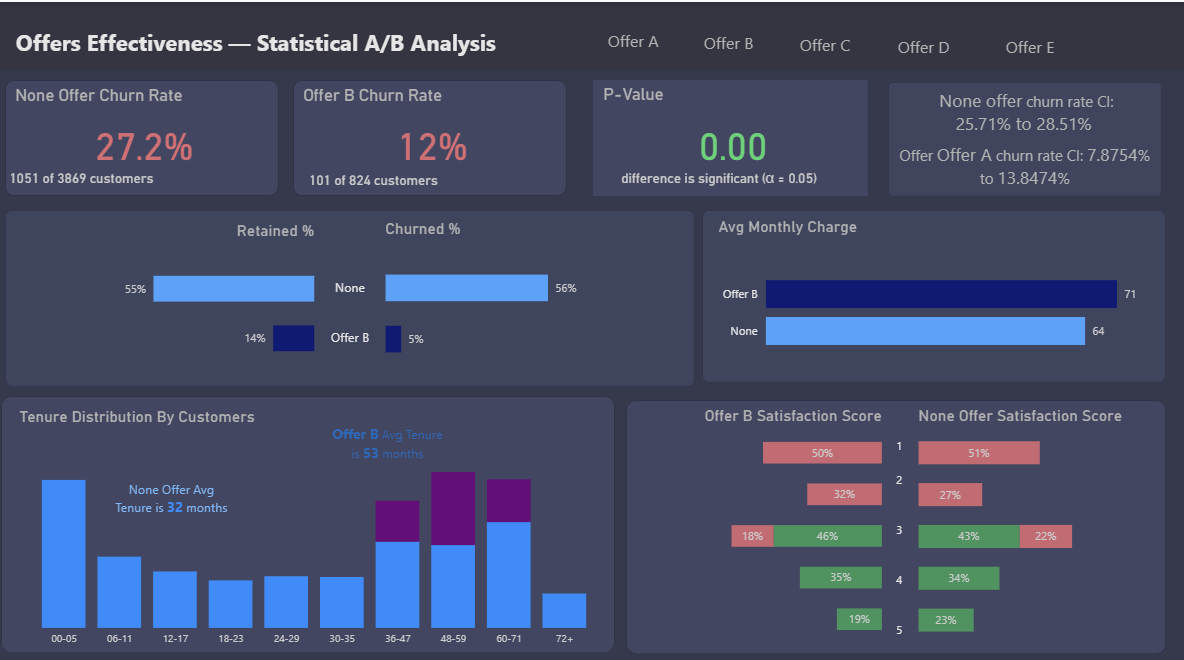

The dashboard page shown, as its layout file describes it:
{"tool":"powerbi","page":{"name":"Offer A/B test","canvas":[1280,720],"ordinal":4},"visuals":[{"type":"shape","box":[0,0,1280,72.9],"z":0,"group":"g3"},{"type":"group","id":"g1","title":"Group 8","box":[9.9,83,295.3,125],"z":0},{"type":"card","title":"None Offer Churn Rate","fields":{"Values":["_calculation.None Offer Churn Rate"]},"box":[10.2,83,295,125],"z":0,"group":"g1"},{"type":"card","title":"Offer E Churn Rate","fields":{"Values":["_calculation.Churn Rate"]},"box":[322.5,85,295,125],"z":0,"group":"g8"},{"type":"card","title":"P-Value","fields":{"Values":["Sum(offers A/B results.p-value)"]},"box":[645.1,85,295,125],"z":0,"group":"g7"},{"type":"shape","box":[962.4,87.3,295,123.5],"z":0,"group":"g10"},{"type":"group","id":"g2","title":"Churn vs Retained","box":[7,225.9,746.4,191],"z":0,"group":"g9"},{"type":"shape","box":[11,225.9,742.1,190.5],"z":0,"group":"g2"},{"type":"shape","box":[760,226.5,499.5,186],"z":0,"group":"g4"},{"type":"shape","box":[7.4,426.4,660.4,277.3],"z":0,"group":"g5"},{"type":"shape","box":[678.4,429.5,582,274.2],"z":0,"group":"g6"},{"type":"group","id":"g3","title":"Header","box":[0,0,1280,72.9],"z":1000},{"type":"actionButton","box":[1083.1,28.4,72,39.8],"z":1000,"group":"g3"},{"type":"enlightenDataStoryDDFB78A6143E42CFAFBC50CCF18D978D","fields":{"measure":["Min(offers A/B results.offer)","Sum(offers A/B results.low bound CI)","Sum(offers A/B results.high bound CI)"]},"box":[962.4,148,294.5,61.1],"z":1000,"group":"g10"},{"type":"card","fields":{"Values":["_calculation.Churn Subtitle"]},"box":[9.9,173.4,168.5,33],"z":1000,"group":"g1"},{"type":"card","fields":{"Values":["_calculation.P Value Result"]},"box":[645.6,175.6,269.2,34.7],"z":1000,"group":"g7"},{"type":"card","fields":{"Values":["_calculation.Churn Subtitle"]},"box":[327.7,178,168.5,33],"z":1000,"group":"g8"},{"type":"group","id":"g4","title":"Offer","box":[758,223.8,502.2,190],"z":1000,"group":"g9"},{"type":"clusteredBarChart","title":"Avg Monthly Charge","fields":{"Y":["_calculation.Monthly Charge"],"Category":["telco telco_customer_churn_services.Offer"]},"box":[758,223.8,502.2,190],"z":1000,"group":"g4"},{"type":"barChart","title":"Retained %","fields":{"Category":["telco telco_customer_churn_services.Offer"],"Y":["_calculation.Retained %"]},"box":[7,229,357.7,186],"z":1000,"group":"g2"},{"type":"columnChart","title":"Tenure Distribution By Customers","fields":{"Category":["telco telco_customer_churn_services.Tenure in Months Group"],"Y":["CountNonNull(telco telco_customer_churn.CustomerID)"],"Series":["telco telco_customer_churn_services.Offer"]},"box":[7.4,427.9,660.4,275.7],"z":1000,"group":"g5"},{"type":"textbox","box":[931.6,462.7,84.5,233],"z":1000,"group":"g6"},{"type":"actionButton","box":[967.6,28.4,72,39.8],"z":2000,"group":"g3"},{"type":"textbox","box":[961.6,88.8,302.7,74.7],"z":2000,"group":"g10"},{"type":"barChart","title":"Churned %","fields":{"Category":["telco telco_customer_churn_services.Offer"],"Y":["_calculation.Churn %"]},"box":[402.2,226.4,351.2,190.5],"z":2000,"group":"g2"},{"type":"group","id":"g5","title":"Tenure Part","box":[7.4,426.4,660.4,277.3],"z":2000,"group":"g9"},{"type":"barChart","title":"Offer E Satisfaction Score ","fields":{"Category":["telco telco_customer_churn_status.Satisfaction Score"],"Series":["telco vw_customer_status.Churn Label"],"Y":["_calculation.Satisfaction %"]},"box":[681.5,426.9,283.5,276.3],"z":2000,"group":"g6"},{"type":"enlightenDataStoryDDFB78A6143E42CFAFBC50CCF18D978D","fields":{"measure":["Min(offers A/B results.offer)","_calculation.Avg Tenure"]},"box":[133.3,494.8,137.9,69],"z":2000,"group":"g5"},{"type":"actionButton","box":[861.5,26.5,72,39.8],"z":3000,"group":"g3"},{"type":"textbox","box":[327.3,295.2,110.1,93.7],"z":3000,"group":"g2"},{"type":"group","id":"g6","title":"Staisfaction score","box":[678.4,426.9,582,278.4],"z":3000,"group":"g9"},{"type":"barChart","title":"None Offer Satisfaction Score","fields":{"Category":["telco telco_customer_churn_status.Satisfaction Score"],"Series":["telco vw_customer_status.Churn Label"],"Y":["_calculation.None Offer Satisfaction %"]},"box":[974.3,427.9,285.6,277.3],"z":3000,"group":"g6"},{"type":"enlightenDataStoryDDFB78A6143E42CFAFBC50CCF18D978D","fields":{"measure":["_calculation.Avg None Offer Tuner"]},"box":[379,518.5,137.9,66.8],"z":3000,"group":"g5"},{"type":"actionButton","box":[759.3,22.7,72,39.8],"z":4000,"group":"g3"},{"type":"group","id":"g7","title":"Group 5","box":[645.1,85,295,125.3],"z":4000,"group":"g9"},{"type":"actionButton","box":[655.1,20.8,72,39.8],"z":5000,"group":"g3"},{"type":"group","id":"g8","title":"Group 7","box":[322.5,85,295,126],"z":5000,"group":"g9"},{"type":"textbox","box":[10.2,21.6,575.1,51.2],"z":6000,"group":"g3"},{"type":"group","id":"g9","title":"offer E","box":[7,85,1257.3,620.2],"z":6000},{"type":"group","id":"g10","title":"Group 1","box":[961.6,87.3,302.7,123.5],"z":6000,"group":"g9"}]}

Visuals, with their boxes in screenshot pixels (x1, y1, x2, y2), scaled from the page's 1280x720 canvas onto the 1184x660 screenshot:
shape: pyautogui.locateOnScreen(0, 0, 1183, 67)
"Group 8" group: pyautogui.locateOnScreen(9, 76, 282, 191)
"None Offer Churn Rate" card: pyautogui.locateOnScreen(9, 76, 282, 191)
"Offer E Churn Rate" card: pyautogui.locateOnScreen(298, 78, 571, 192)
"P-Value" card: pyautogui.locateOnScreen(597, 78, 870, 192)
shape: pyautogui.locateOnScreen(890, 80, 1163, 193)
"Churn vs Retained" group: pyautogui.locateOnScreen(6, 207, 697, 382)
shape: pyautogui.locateOnScreen(10, 207, 697, 382)
shape: pyautogui.locateOnScreen(703, 208, 1165, 378)
shape: pyautogui.locateOnScreen(7, 391, 618, 645)
shape: pyautogui.locateOnScreen(628, 394, 1166, 645)
"Header" group: pyautogui.locateOnScreen(0, 0, 1183, 67)
actionButton: pyautogui.locateOnScreen(1002, 26, 1068, 63)
enlightenDataStoryDDFB78A6143E42CFAFBC50CCF18D978D - Min(offers A/B results.offer) x Sum(offers A/B results.low bound CI): pyautogui.locateOnScreen(890, 136, 1163, 192)
card - _calculation.Churn Subtitle: pyautogui.locateOnScreen(9, 159, 165, 189)
card - _calculation.P Value Result: pyautogui.locateOnScreen(597, 161, 846, 193)
card - _calculation.Churn Subtitle: pyautogui.locateOnScreen(303, 163, 459, 193)
"Offer" group: pyautogui.locateOnScreen(701, 205, 1166, 379)
"Avg Monthly Charge" clusteredBarChart: pyautogui.locateOnScreen(701, 205, 1166, 379)
"Retained %" barChart: pyautogui.locateOnScreen(6, 210, 337, 380)
"Tenure Distribution By Customers" columnChart: pyautogui.locateOnScreen(7, 392, 618, 645)
textbox: pyautogui.locateOnScreen(862, 424, 940, 638)
actionButton: pyautogui.locateOnScreen(895, 26, 962, 63)
textbox: pyautogui.locateOnScreen(889, 81, 1169, 150)
"Churned %" barChart: pyautogui.locateOnScreen(372, 208, 697, 382)
"Tenure Part" group: pyautogui.locateOnScreen(7, 391, 618, 645)
"Offer E Satisfaction Score " barChart: pyautogui.locateOnScreen(630, 391, 893, 645)
enlightenDataStoryDDFB78A6143E42CFAFBC50CCF18D978D - Min(offers A/B results.offer) x _calculation.Avg Tenure: pyautogui.locateOnScreen(123, 454, 251, 517)
actionButton: pyautogui.locateOnScreen(797, 24, 863, 61)
textbox: pyautogui.locateOnScreen(303, 271, 405, 356)
"Staisfaction score" group: pyautogui.locateOnScreen(628, 391, 1166, 647)
"None Offer Satisfaction Score" barChart: pyautogui.locateOnScreen(901, 392, 1165, 646)
enlightenDataStoryDDFB78A6143E42CFAFBC50CCF18D978D - _calculation.Avg None Offer Tuner: pyautogui.locateOnScreen(351, 475, 478, 537)
actionButton: pyautogui.locateOnScreen(702, 21, 769, 57)
"Group 5" group: pyautogui.locateOnScreen(597, 78, 870, 193)
actionButton: pyautogui.locateOnScreen(606, 19, 673, 56)
"Group 7" group: pyautogui.locateOnScreen(298, 78, 571, 193)
textbox: pyautogui.locateOnScreen(9, 20, 541, 67)
"offer E" group: pyautogui.locateOnScreen(6, 78, 1169, 646)
"Group 1" group: pyautogui.locateOnScreen(889, 80, 1169, 193)
